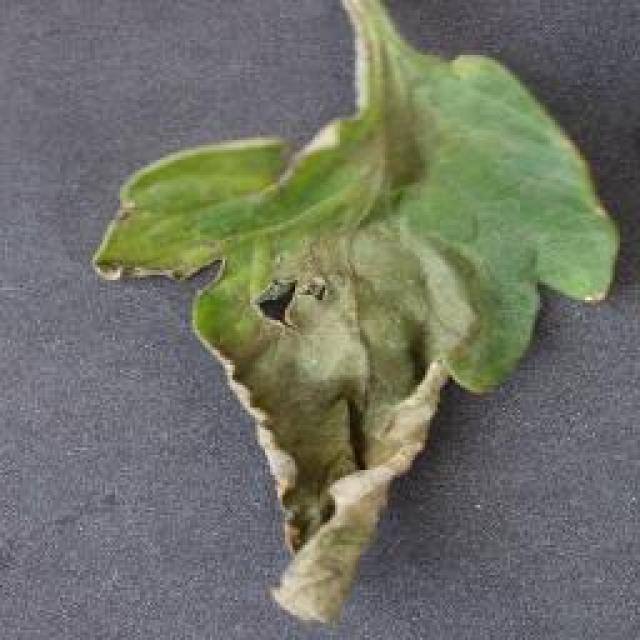Tomato late blight leaf: (94, 53, 618, 625)
